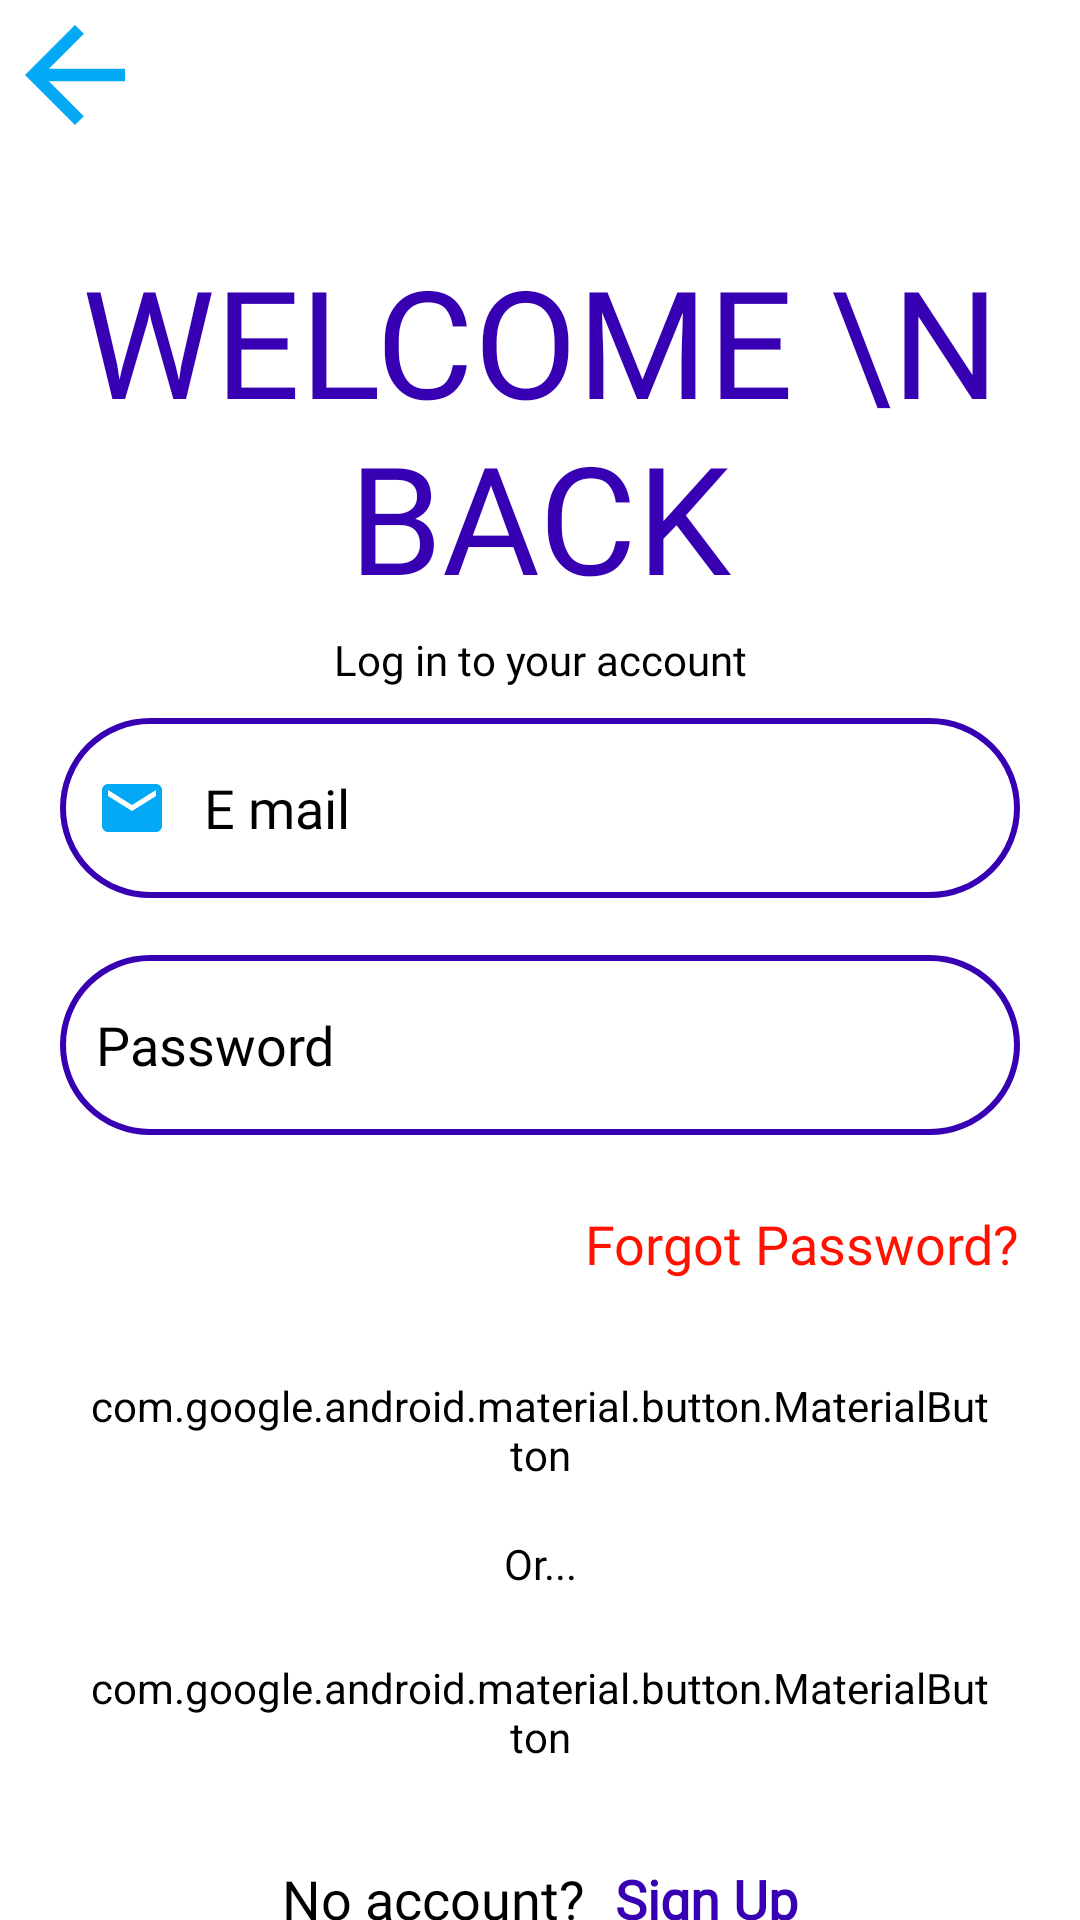

Icons on this 1080px×1920px Android screen, each with the point to tap as [x,y]:
arrow back: [75,75]
